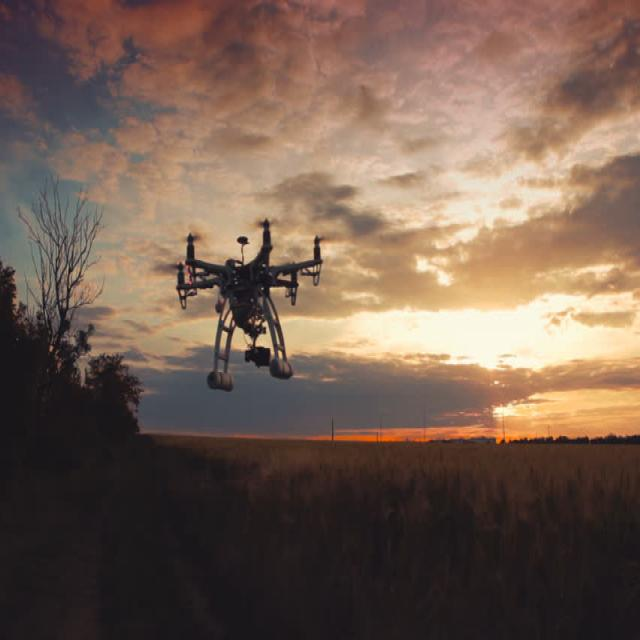drone: (152, 218, 337, 334)
